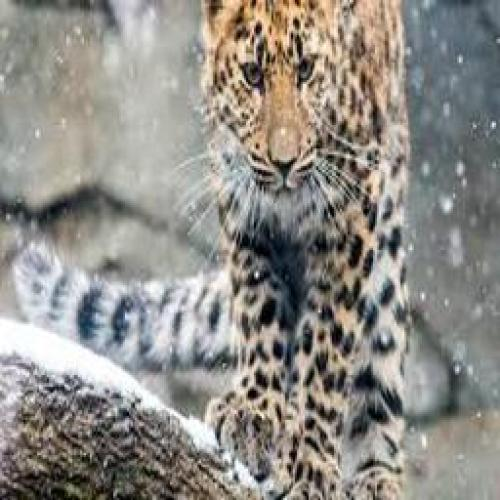amur_leopard-endangered: (174, 0, 423, 500)
